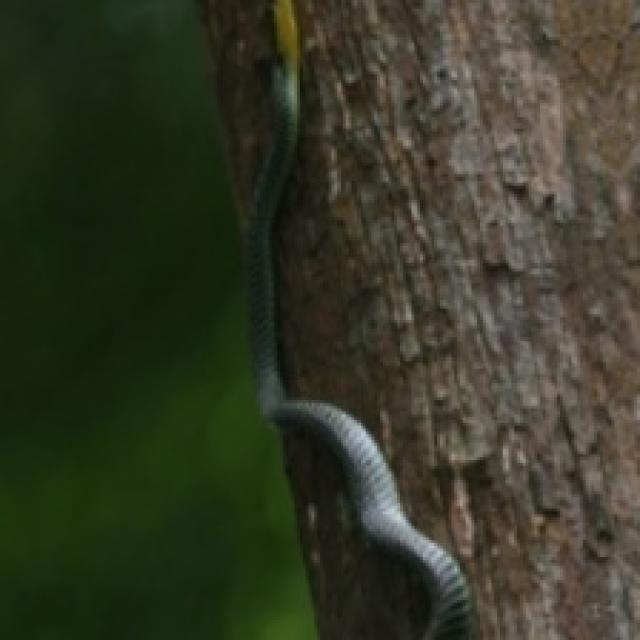paradise tree snake: (248, 0, 469, 639)
